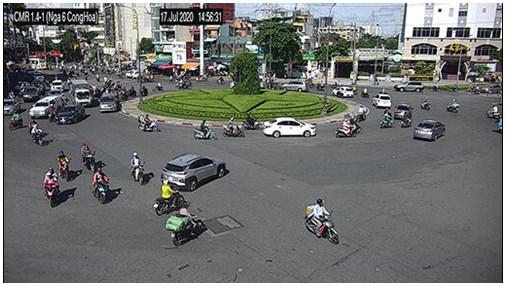xe_hoi: (163, 152, 226, 191), (263, 117, 316, 139), (29, 97, 59, 117), (55, 105, 83, 123), (98, 93, 116, 113), (394, 80, 424, 92), (332, 86, 354, 99), (371, 93, 390, 108), (23, 86, 40, 101), (282, 81, 305, 92), (4, 98, 18, 114), (50, 79, 64, 93)
xe_may: (304, 199, 340, 245), (164, 207, 203, 245), (153, 180, 185, 215), (89, 167, 109, 206), (44, 165, 59, 209), (193, 119, 217, 142), (222, 117, 245, 138), (130, 152, 144, 185), (335, 118, 356, 139), (56, 151, 71, 180), (82, 141, 96, 172), (241, 112, 262, 132), (344, 115, 363, 135), (139, 114, 158, 133), (9, 110, 24, 132), (30, 124, 44, 146), (379, 110, 392, 129), (486, 103, 501, 119), (401, 111, 412, 129), (446, 98, 459, 113), (46, 103, 55, 121), (420, 97, 431, 111), (153, 82, 164, 93), (140, 85, 148, 96), (217, 75, 225, 86)
xe_tai: (68, 77, 92, 106)
